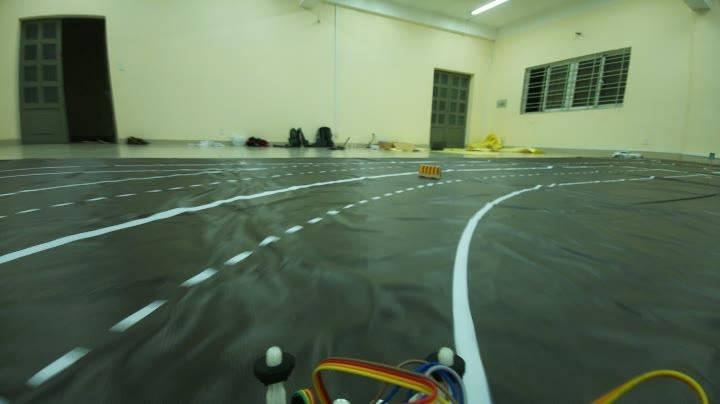roadblock: (415, 161, 445, 181)
